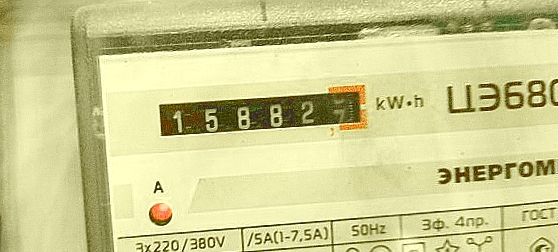1: (170, 104, 185, 134)
2: (297, 97, 316, 124)
5: (202, 104, 220, 135)
7: (331, 105, 345, 122)
8: (233, 102, 251, 131), (266, 99, 284, 128)
screen: (145, 74, 375, 148)
